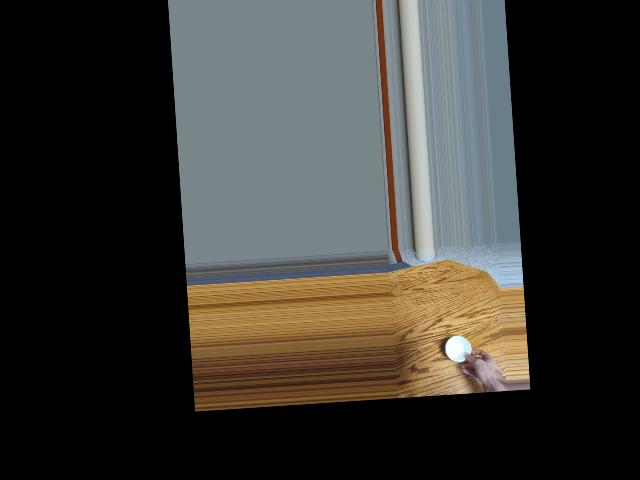cotage: (442, 334, 475, 363)
